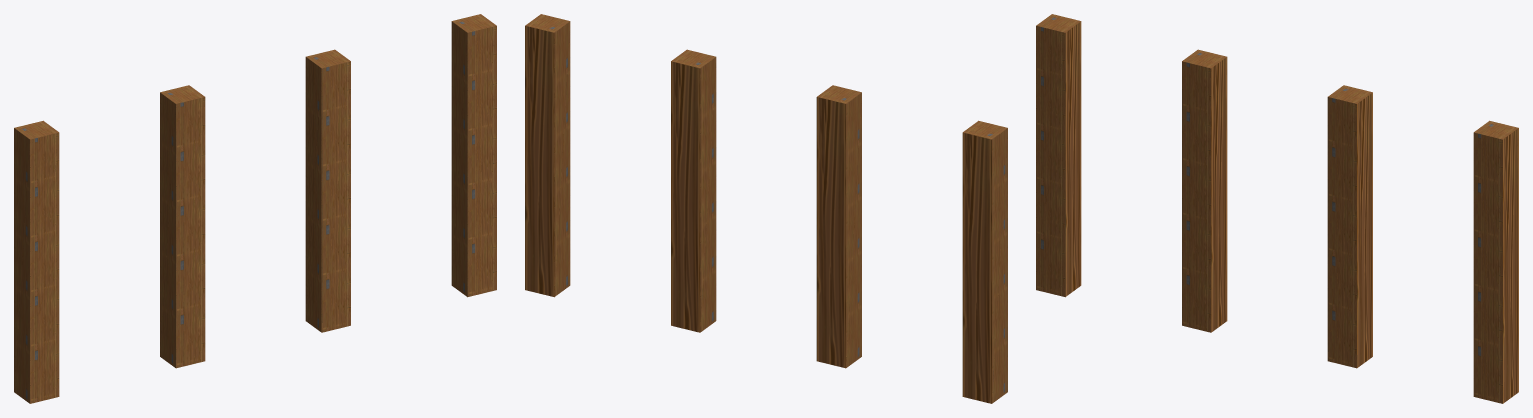
The picture shows the model from 3 angles, left to right: view 1: azimuth 30°, elevation 25°; view 2: azimuth 150°, elevation 25°; view 3: azimuth 330°, elevation 25°; orthographic projection.
Visible parts, largest first — view 1: Cube.1525; view 2: Cube.1525; view 3: Cube.1525.
Part boxes in pixels (<box>): Cube.1525: <box>14,14,496,403</box>; Cube.1525: <box>525,14,1007,403</box>; Cube.1525: <box>1036,14,1518,403</box>.
Bounding box in the file's own units: 242 × 131 × 14.36.
Materials: 1 (1 with a texture image).
